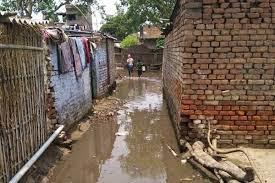Stagnant water: (45, 7, 209, 183)
